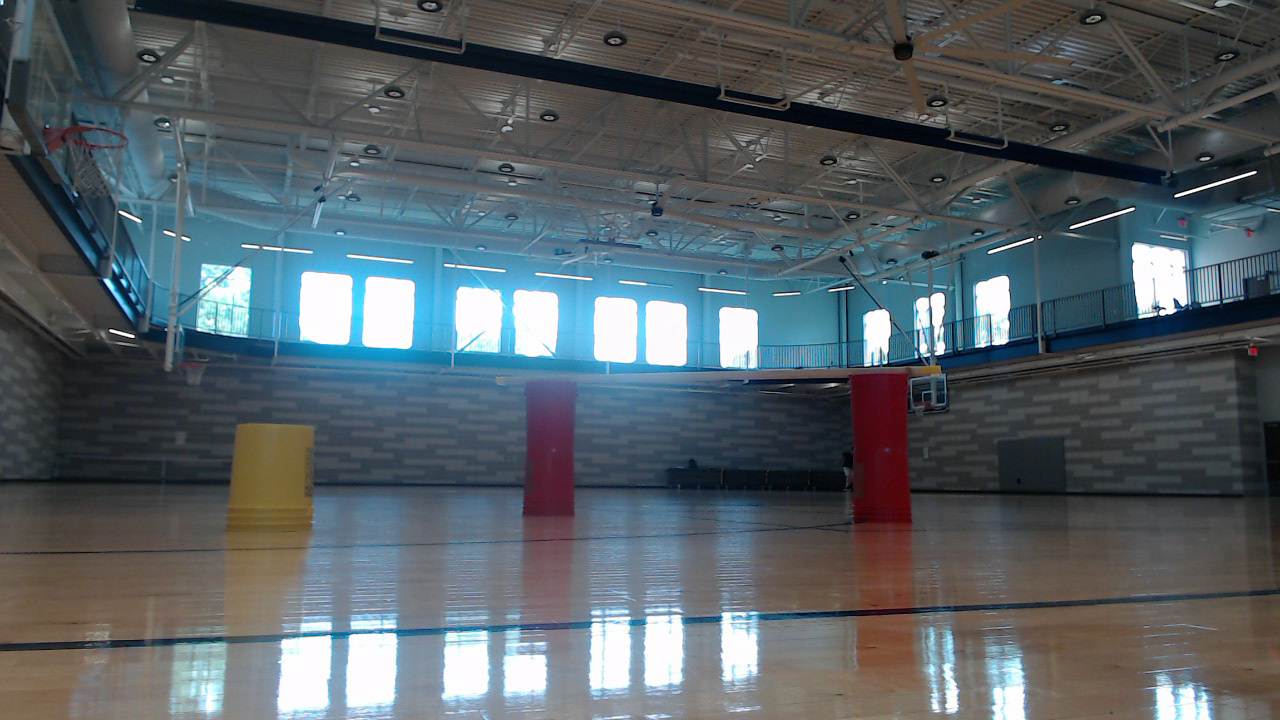red_bucket_arch: (522, 369, 927, 536)
yellow_bucket: (224, 422, 326, 543)
